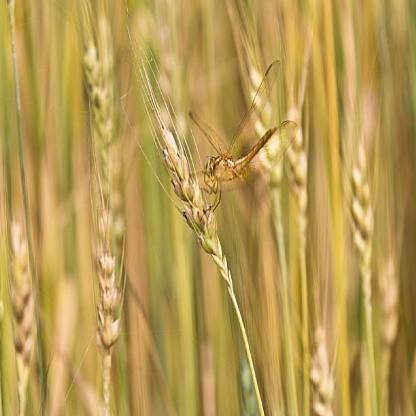sawfly: (177, 57, 302, 240)
